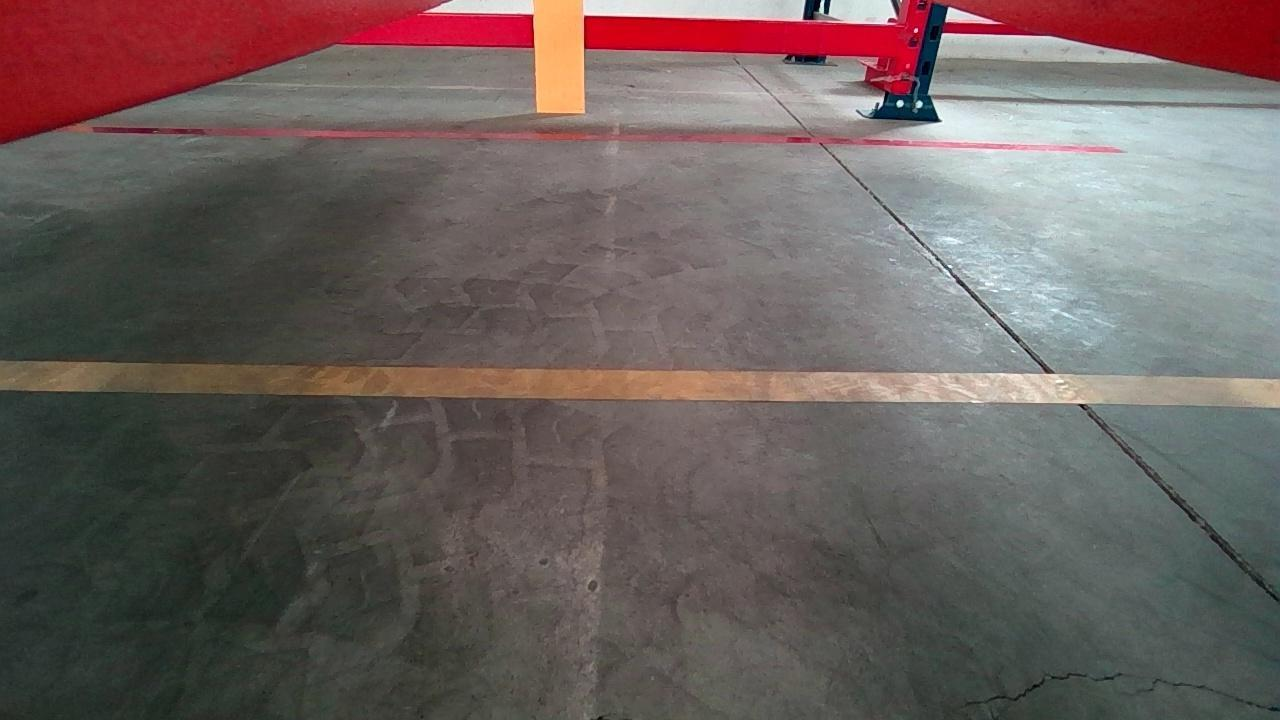h_rack: (338, 12, 920, 57)
orange_strip: (529, 0, 585, 111)
red_line: (60, 121, 1127, 154)
yellow_line: (0, 361, 1280, 407)
